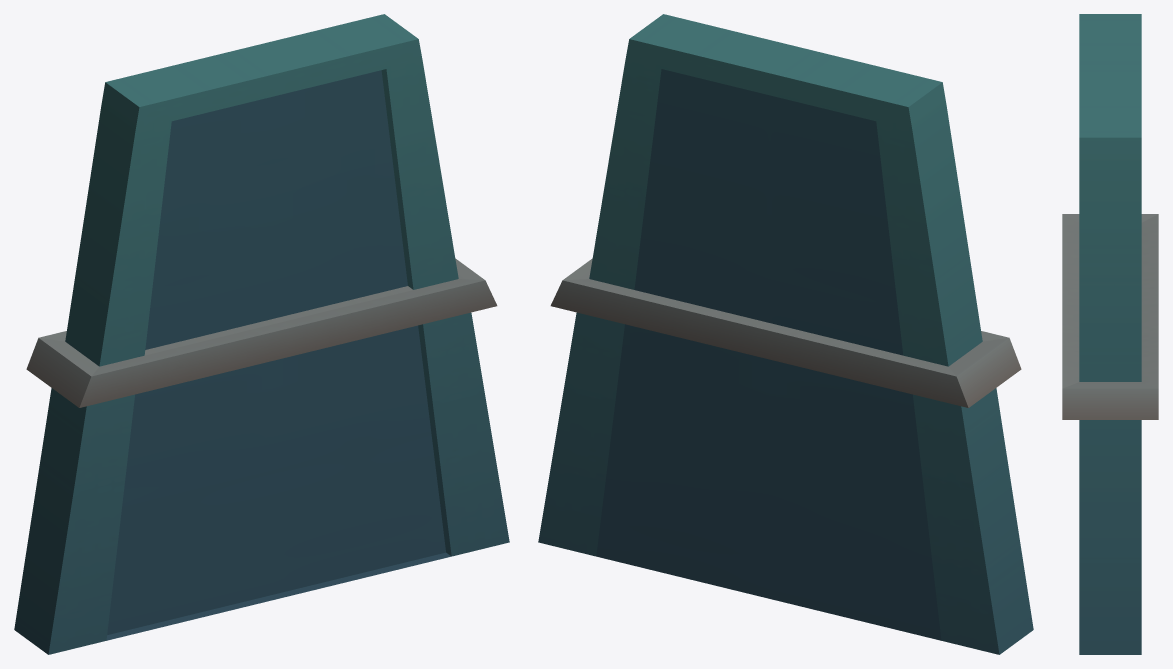
Rendered from ItemProps_Door.fbx.
3 views of the same model, side by side, from view 1: azimuth 30°, elevation 25°; view 2: azimuth 150°, elevation 25°; view 3: azimuth 270°, elevation 25° (orthographic). The views are drawn at different scales.
Visible parts, largest first — view 1: Cube.065; view 2: Cube.065; view 3: Cube.065.
Boxes of the visible parts, left/top/right/bottom form: Cube.065: left=14, top=14, right=509, bottom=654; Cube.065: left=538, top=14, right=1033, bottom=654; Cube.065: left=1062, top=14, right=1158, bottom=654.
Bounding box in the file's own units: 497 × 541 × 98.82.
